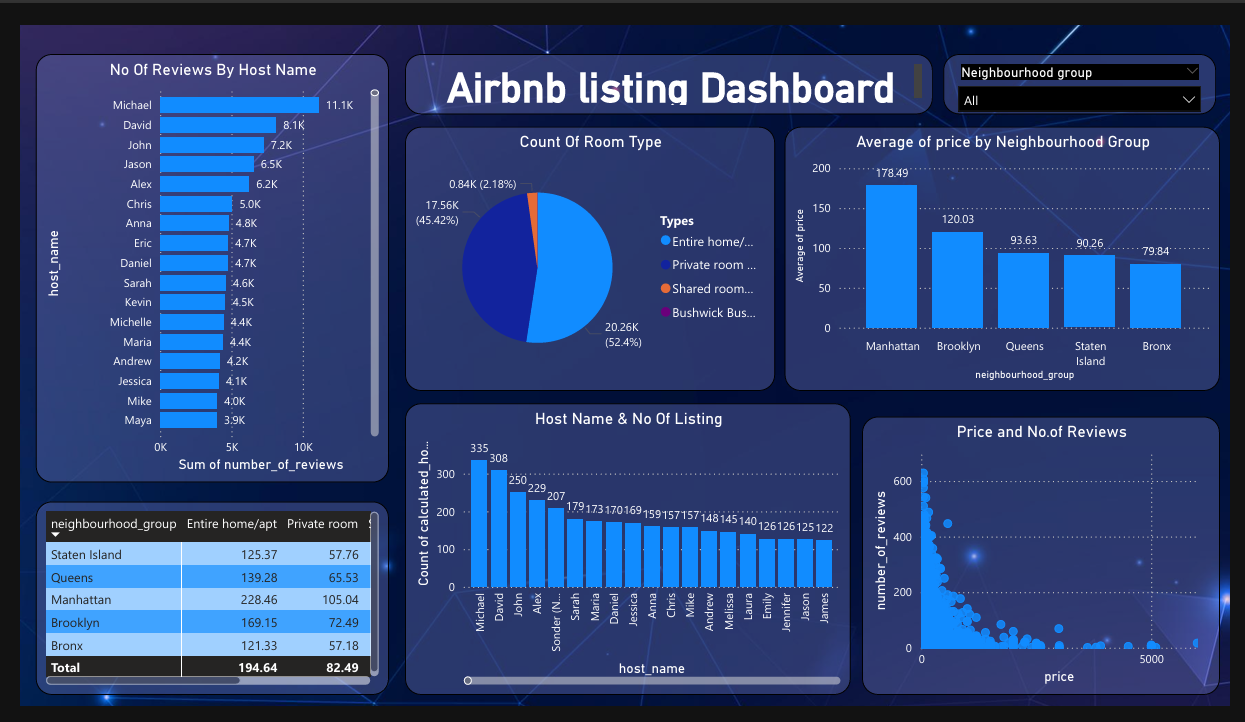

The dashboard page shown, as its layout file describes it:
{"tool":"powerbi","page":{"name":"Page 1","canvas":[1280,720],"ordinal":0},"visuals":[{"type":"columnChart","title":"Average of price by Neighbourhood Group","fields":{"Category":["task4_viz.neighbourhood_group"],"Y":["task4_viz.price"]},"box":[808.6,107.1,461.4,280],"z":0},{"type":"columnChart","title":"Host Name & No Of  Listing ","fields":{"Category":["task4_viz.host_name"],"Y":["task4_viz.calculated_host_listings_count"]},"box":[407.1,400,471.4,308.6],"z":1000},{"type":"scatterChart","title":"Price and No.of Reviews","fields":{"X":["task4_viz.price"],"Y":["task4_viz.number_of_reviews"]},"box":[891.9,399.3,378.7,308.7],"z":2000},{"type":"slicer","fields":{"Values":["task4_viz.neighbourhood_group"]},"box":[977.1,30,288.6,64.3],"z":3000},{"type":"textbox","box":[407.1,30,558.6,64.3],"z":4000},{"type":"pieChart","title":"Count Of Room Type","fields":{"Category":["task4_viz.room_type","task4_viz.room_type"],"Y":["task4_viz.room_type"]},"box":[407.1,107.1,391.4,280],"z":5000},{"type":"pivotTable","fields":{"Columns":["task4_viz.room_type"],"Rows":["task4_viz.neighbourhood_group"],"Values":["task4_viz.price"]},"box":[15.7,504.3,374.3,204.3],"z":6000},{"type":"barChart","title":"No Of Reviews By Host Name","fields":{"Category":["task4_viz.host_name"],"Y":["task4_viz.number_of_reviews"]},"box":[15.7,30,374.3,454.3],"z":7000}]}

Visuals, with their boxes on the page's 1280x720 design canvas (x1, y1, x2, y2). These are canvas units, not pixel positions in the 1245x722 screenshot, which may show the page scaled, cropped or inside an application window:
"Average of price by Neighbourhood Group" columnChart: 809 107 1270 387
"Host Name & No Of  Listing " columnChart: 407 400 878 709
"Price and No.of Reviews" scatterChart: 892 399 1271 708
slicer - task4_viz.neighbourhood_group: 977 30 1266 94
textbox: 407 30 966 94
"Count Of Room Type" pieChart: 407 107 798 387
pivotTable - task4_viz.room_type x task4_viz.neighbourhood_group: 16 504 390 709
"No Of Reviews By Host Name" barChart: 16 30 390 484
